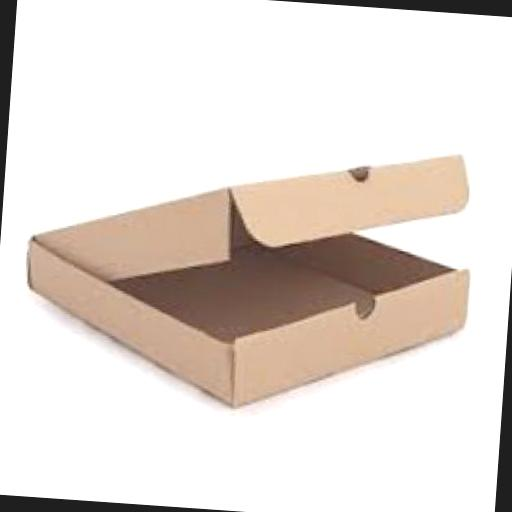cardboard: (20, 121, 483, 422)
